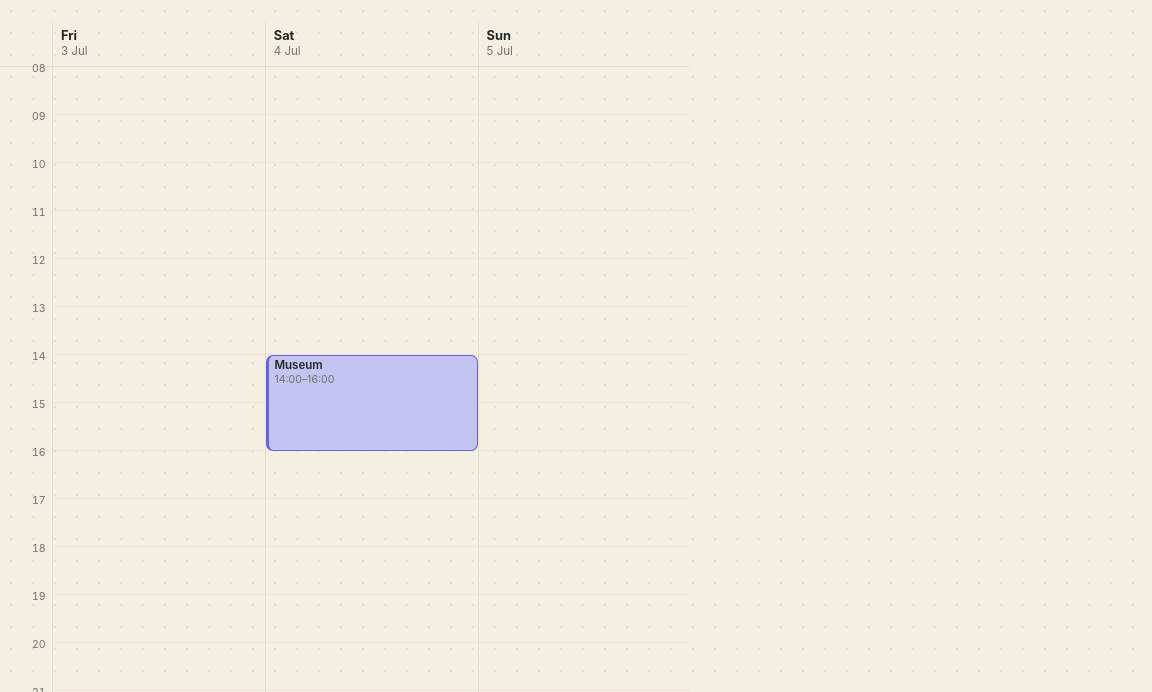
Scenario: proposing from an empty hour › asks which lane, because an hour cannot say
The width and height of the screenshot is (1152, 692).
Click the button named "Propose something at": coordinates (159, 91) [53,67,265,115]
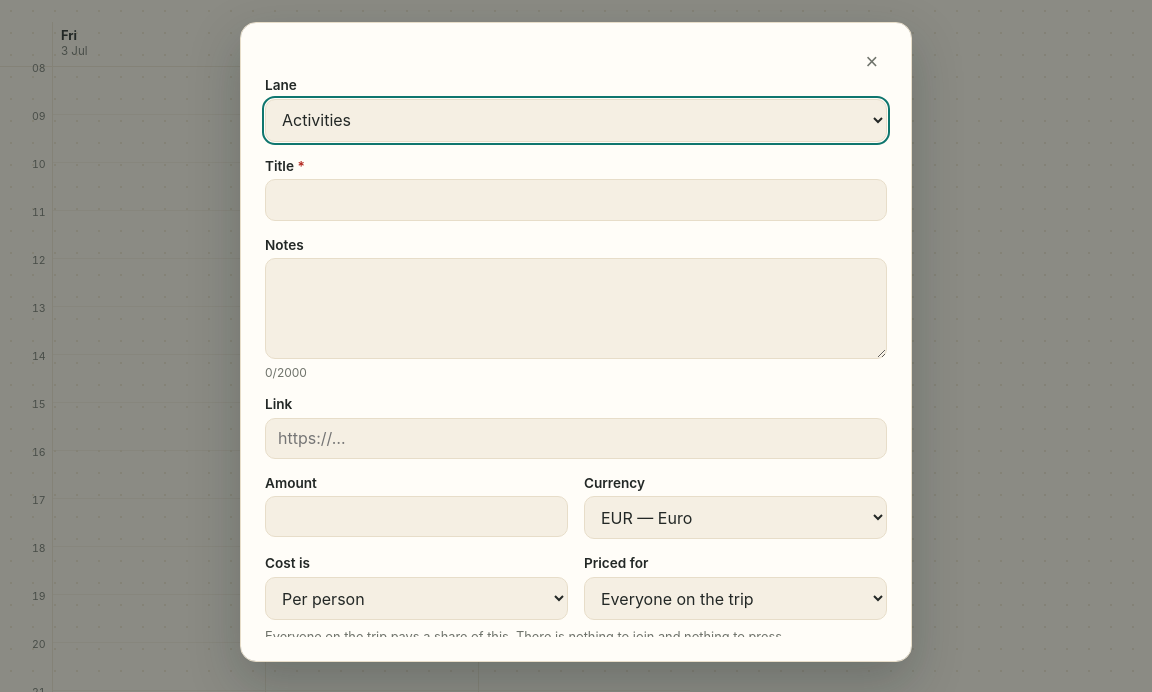
expect the dropdown labelled "Lane" is shown: met, box [265,99,887,142]
